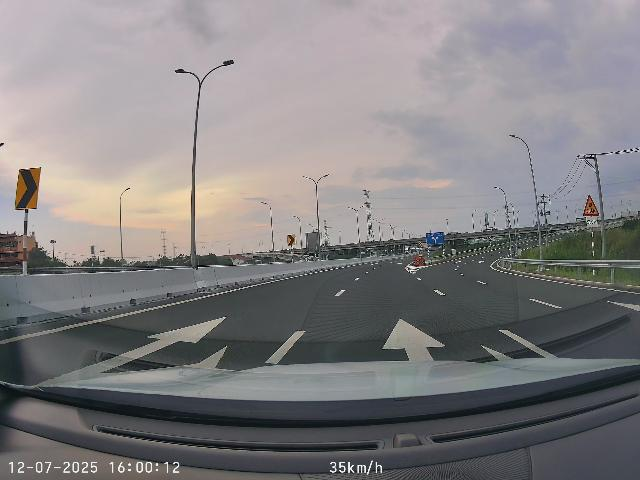245-di-cham: (583, 194, 599, 217)
